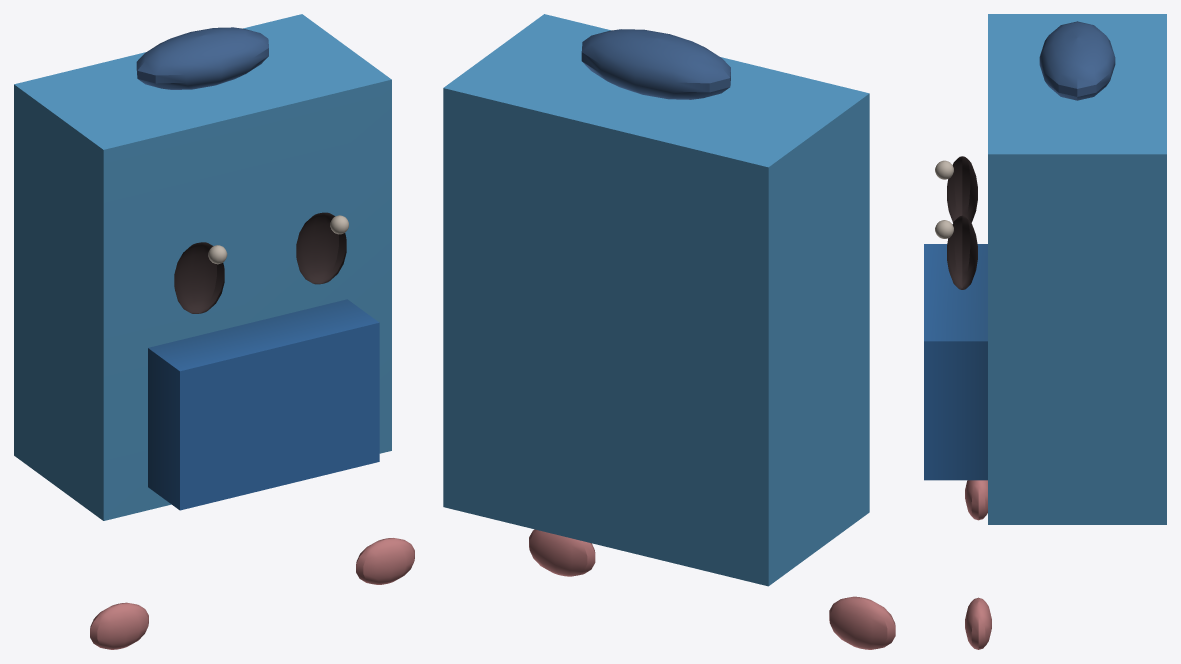
The model's file is pe3ece78b.glb.
The picture shows the model from 3 angles, left to right: view 1: azimuth 30°, elevation 25°; view 2: azimuth 150°, elevation 25°; view 3: azimuth 270°, elevation 25°; orthographic projection. The views are drawn at different scales.
Parts seen in each view (by area): view 1: pet_pe3ece78b; view 2: pet_pe3ece78b; view 3: pet_pe3ece78b.
Boxes of the visible parts, x1=… form: pet_pe3ece78b: x1=14, y1=14, x2=414, y2=649; pet_pe3ece78b: x1=443, y1=14, x2=895, y2=649; pet_pe3ece78b: x1=924, y1=14, x2=1166, y2=649.
Size of the model in its own units: 0.2932 by 0.4689 by 0.19.
